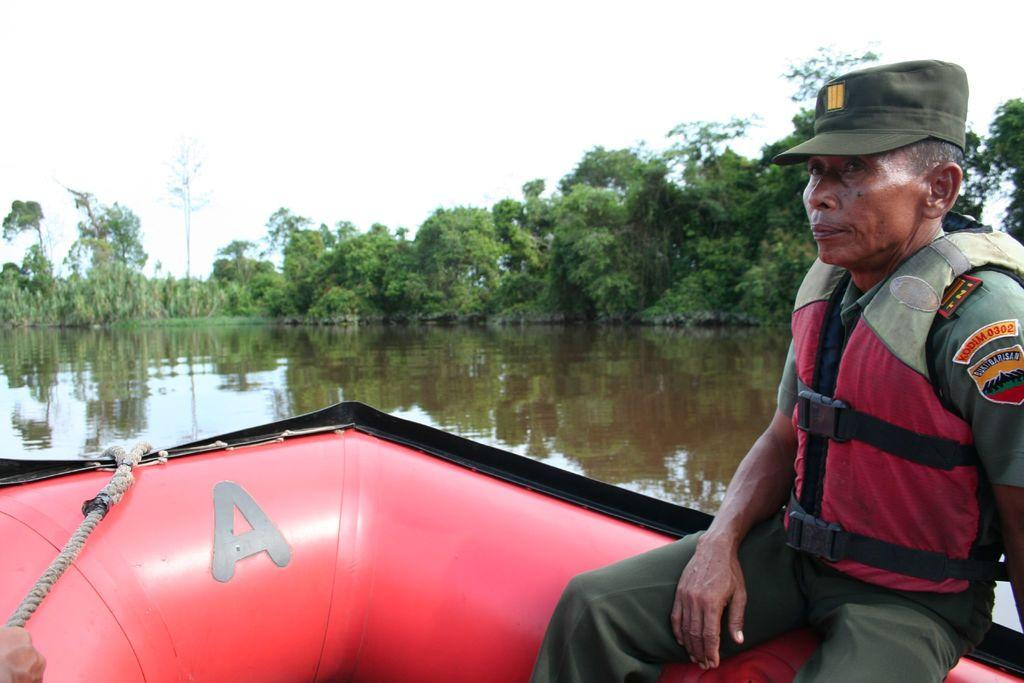Hat: (761, 57, 963, 163)
